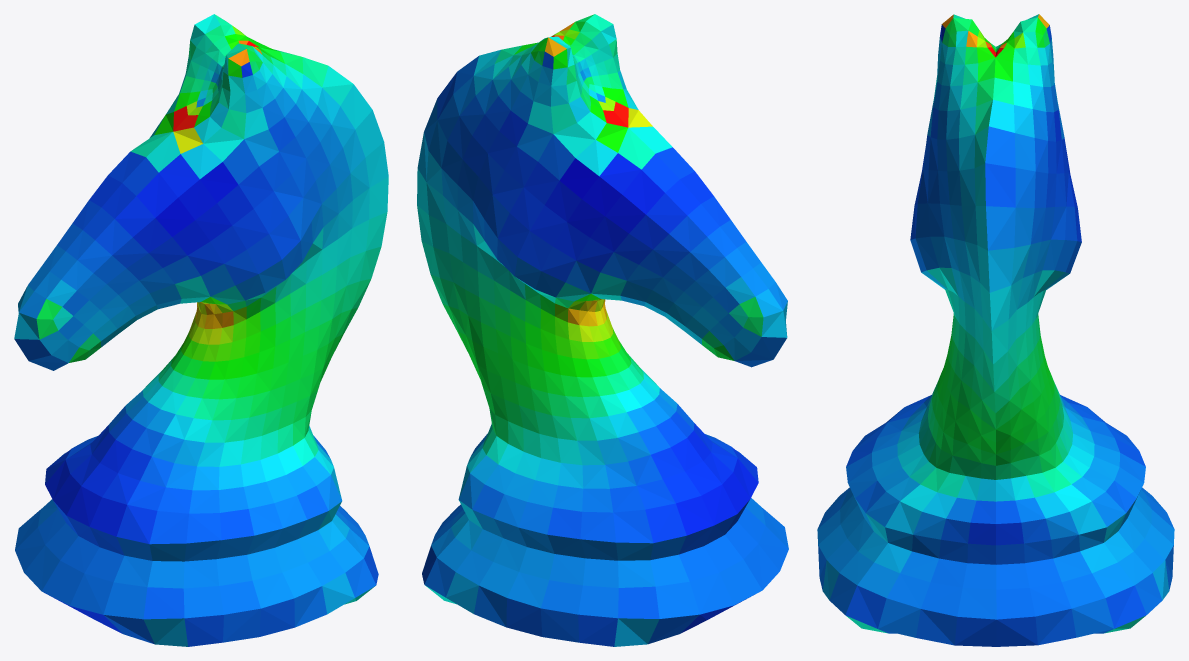
File: horse03b_opt_quality.obj
The picture shows the model from 3 angles, left to right: view 1: azimuth 30°, elevation 25°; view 2: azimuth 150°, elevation 25°; view 3: azimuth 270°, elevation 25°; orthographic projection. The views are drawn at different scales.
Bounding box in the file's own units: 3.4 × 4.76 × 2.65.
